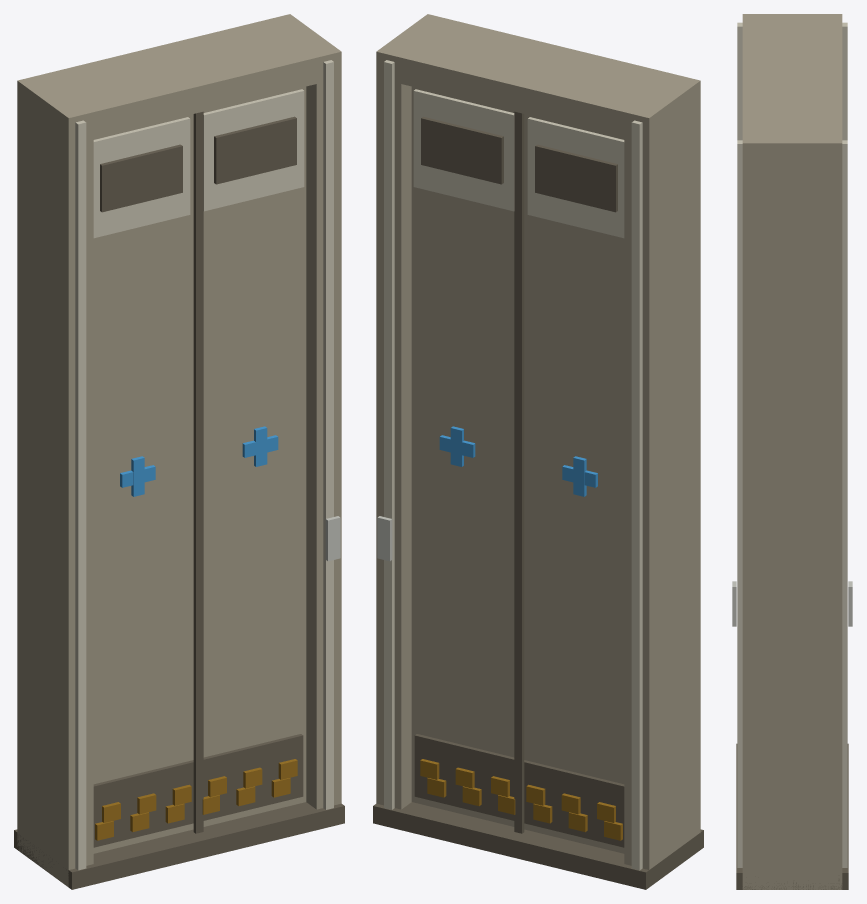
Rendered from CMU3DSingleMediDoor.glb.
The picture shows the model from 3 angles, left to right: view 1: azimuth 30°, elevation 25°; view 2: azimuth 150°, elevation 25°; view 3: azimuth 270°, elevation 25°; orthographic projection. The views are drawn at different scales.
Parts seen in each view (by area): view 1: closed leaf body, door jamb (×2), header, jamb raised edge (×2), upper inset band (×2), lower hazard backing, threshold, upper dark inset (×2), leaf meeting seam, side access reader; view 2: closed leaf body, door jamb (×2), header, jamb raised edge (×2), upper inset band back (×2), lower hazard backing back, threshold, upper dark inset back (×2), leaf meeting seam back, side access reader back; view 3: door jamb (×2), header, jamb raised edge (×4), threshold.
Boxes of the visible parts, x1,y1,x2,y2 form: closed leaf body: [93, 86, 306, 853]; door jamb (×2): [17, 14, 341, 887]; header: [17, 14, 341, 144]; jamb raised edge (×2): [75, 60, 333, 870]; upper inset band (×2): [93, 89, 304, 238]; lower hazard backing: [93, 734, 303, 847]; threshold: [14, 802, 344, 889]; upper dark inset (×2): [100, 116, 296, 212]; leaf meeting seam: [193, 111, 203, 833]; side access reader: [325, 516, 340, 561]; closed leaf body: [411, 86, 624, 853]; door jamb (×2): [376, 14, 700, 869]; header: [376, 14, 700, 144]; jamb raised edge (×2): [384, 60, 642, 870]; upper inset band back (×2): [413, 89, 624, 238]; lower hazard backing back: [414, 734, 624, 847]; threshold: [373, 802, 703, 889]; upper dark inset back (×2): [421, 116, 617, 212]; leaf meeting seam back: [514, 111, 524, 833]; side access reader back: [377, 516, 392, 561]; door jamb (×2): [742, 14, 842, 889]; header: [742, 14, 842, 168]; jamb raised edge (×4): [737, 22, 847, 867]; threshold: [736, 743, 848, 889].
Size of the model in its own units: 0.98 by 2.64 by 0.386.
